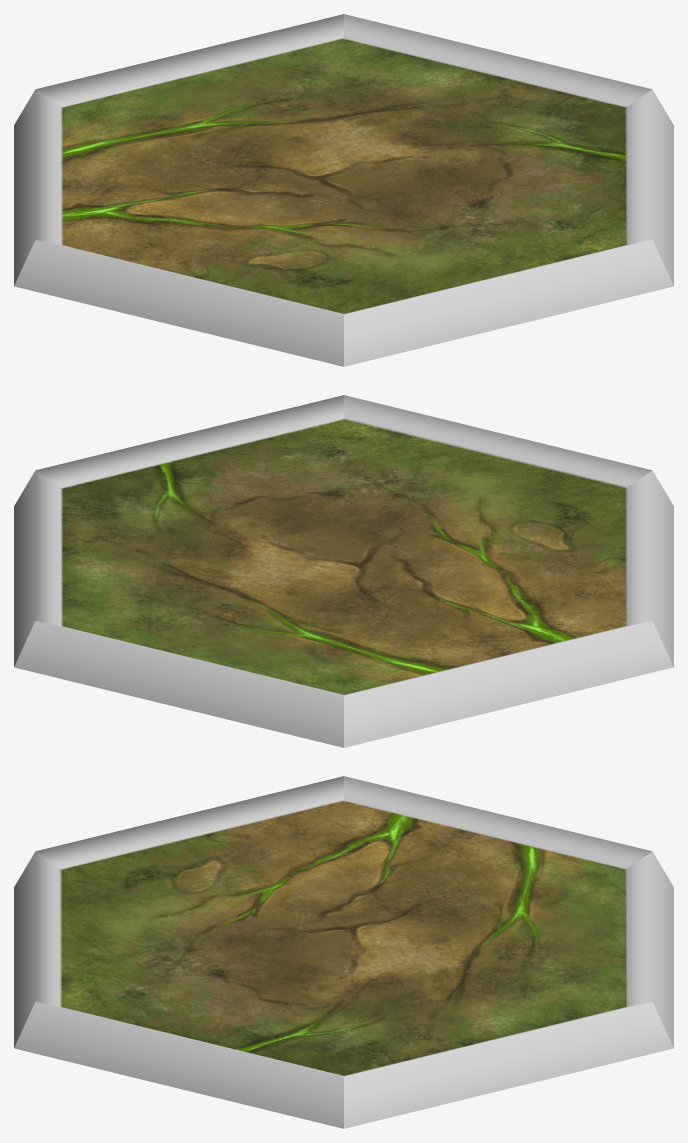
File: HexTerrain1.fbx
3 views of the same model, one above another, from view 1: azimuth 30°, elevation 25°; view 2: azimuth 150°, elevation 25°; view 3: azimuth 270°, elevation 25° (orthographic).
Visible parts, largest first — view 1: HexTerrain1; view 2: HexTerrain1; view 3: HexTerrain1.
Part boxes in pixels (x1,y1,x2,y2): HexTerrain1: [14, 14, 673, 366]; HexTerrain1: [14, 395, 673, 747]; HexTerrain1: [14, 776, 673, 1128].
Bounding box in the file's own units: 2 × 0.1195 × 1.73.
1 material, 1 textured.
